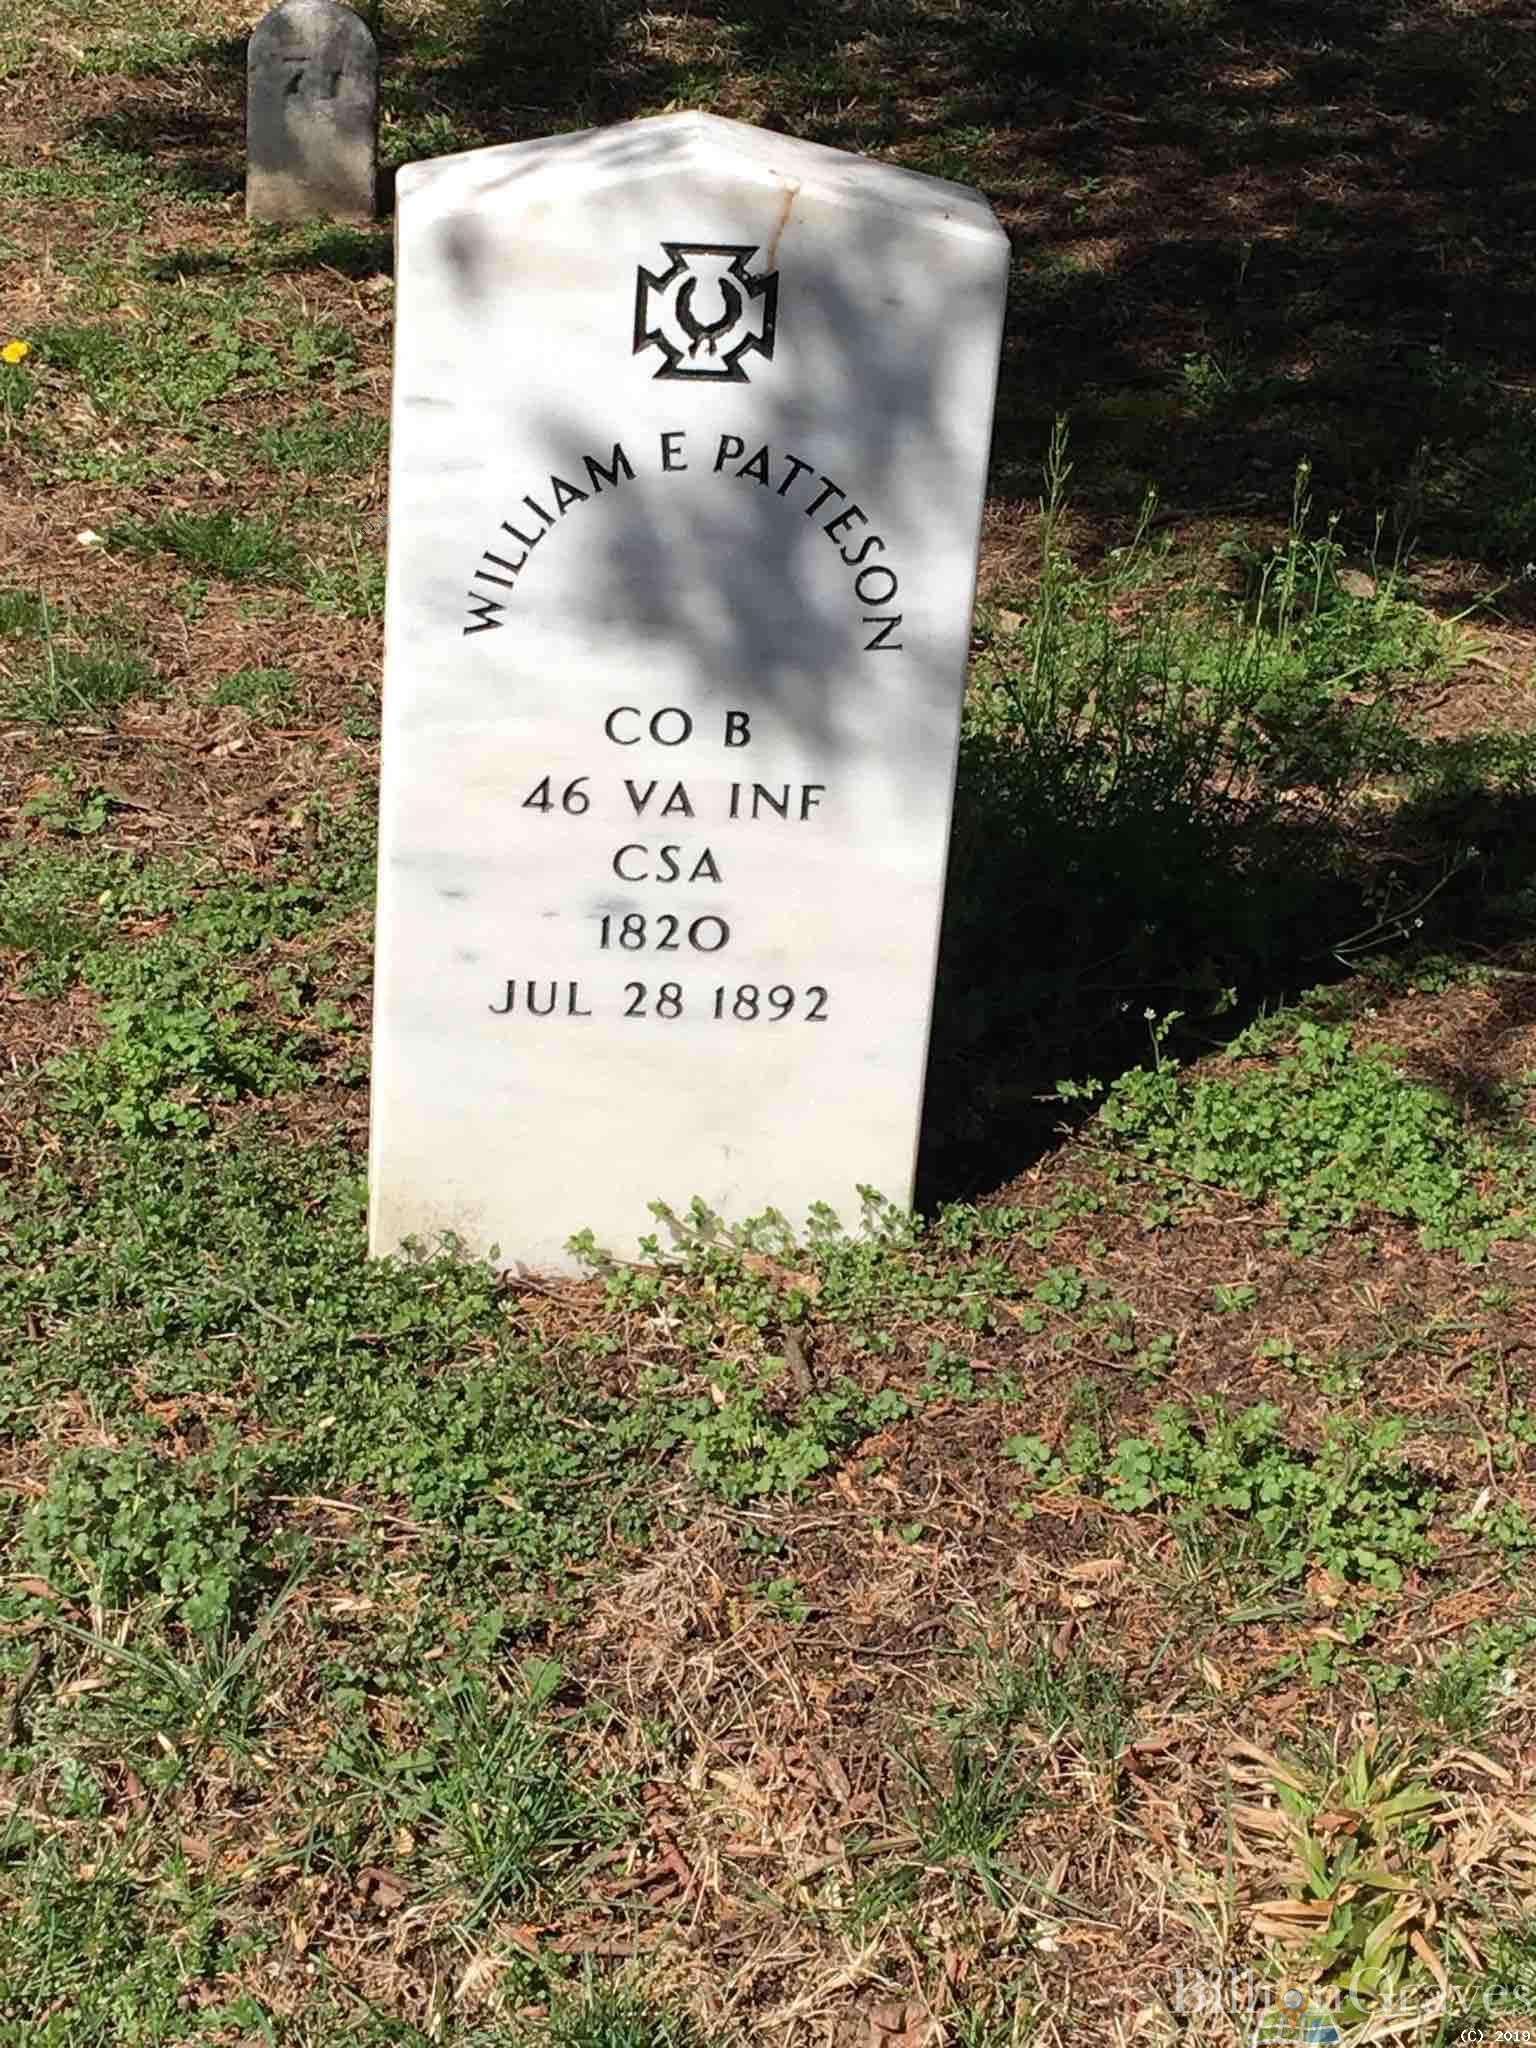military: (366, 103, 1004, 1271)
